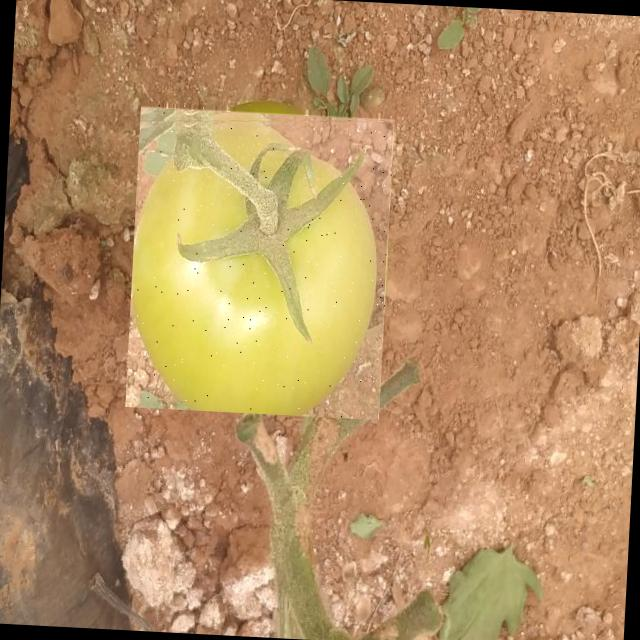Unripe Tomato: (125, 103, 395, 420)
